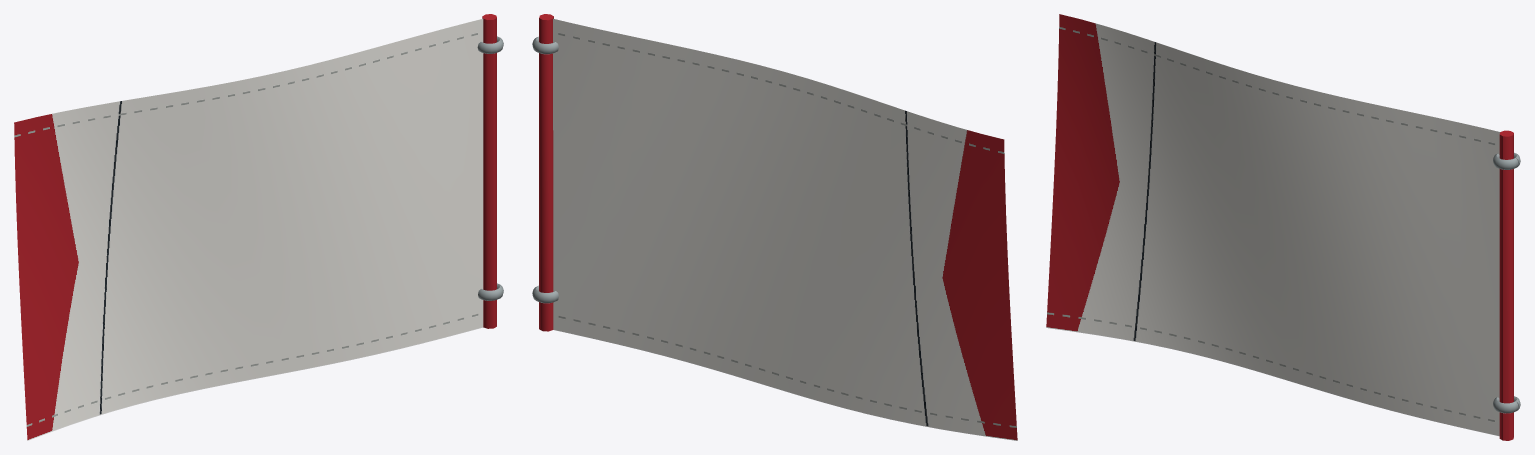
File: Pennant_01_N_白艇・一本朱.glb
3 views of the same model, side by side, from view 1: azimuth 30°, elevation 25°; view 2: azimuth 150°, elevation 25°; view 3: azimuth 330°, elevation 25° (orthographic). The views are drawn at different scales.
Parts seen in each view (by area): view 1: Pennant_01_N; view 2: Pennant_01_N; view 3: Pennant_01_N.
Part boxes in pixels (box(x1,y1,x2,y2)): Pennant_01_N: box(14, 14, 503, 440); Pennant_01_N: box(532, 14, 1017, 440); Pennant_01_N: box(1046, 14, 1520, 440).
Bounding box in the file's own units: 0.291 × 0.18 × 0.019.
Materials: 3 (3 with a texture image).
